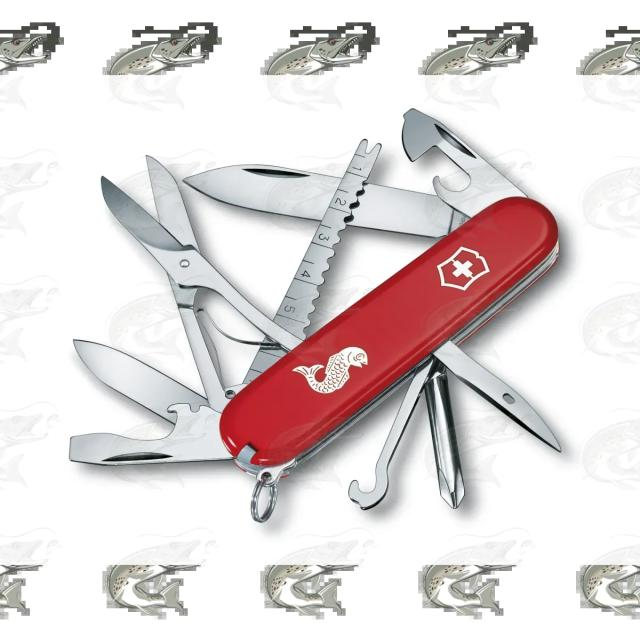knife victorinox: (220, 197, 558, 467)
